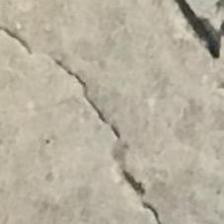Crack: (1, 25, 170, 224)
